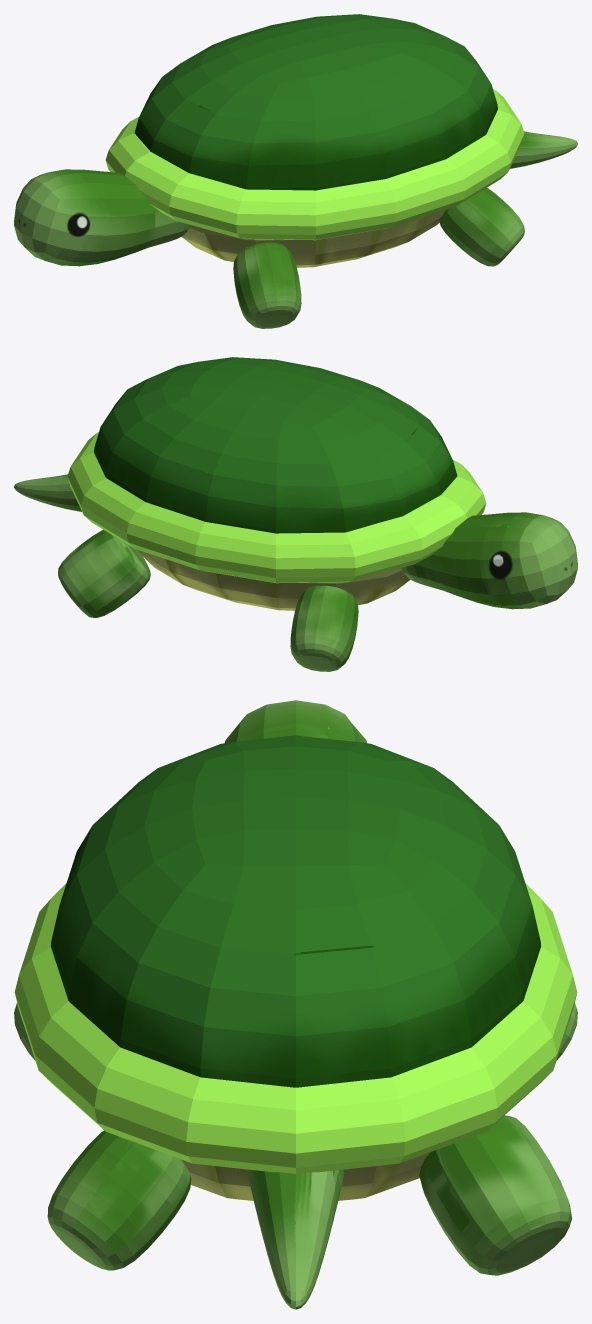
The model's file is SkildpadeBamse.fbx.
The picture shows the model from 3 angles, top to bottom: view 1: azimuth 30°, elevation 25°; view 2: azimuth 150°, elevation 25°; view 3: azimuth 270°, elevation 25°; orthographic projection. The views are drawn at different scales.
Parts seen in each view (by area): view 1: Cube.001, Cube.005, Cube.002, Cube; view 2: Cube.001, Cube.005, Cube.002, Cube; view 3: Cube.001, Cube.002, Cube.005, Cube.
Boxes of the visible parts, box(x1,y1,x2,y2) form: Cube.001: box(134, 14, 497, 190); Cube.005: box(14, 131, 577, 328); Cube.002: box(105, 89, 524, 240); Cube: box(181, 209, 445, 267); Cube.001: box(94, 357, 457, 533); Cube.005: box(14, 474, 577, 671); Cube.002: box(67, 432, 486, 583); Cube: box(138, 550, 410, 610); Cube.001: box(50, 735, 541, 1087); Cube.002: box(14, 883, 577, 1173); Cube.005: box(14, 700, 577, 1309); Cube: box(181, 1152, 430, 1200).
Bounding box in the file's own units: 400 × 148 × 203.
